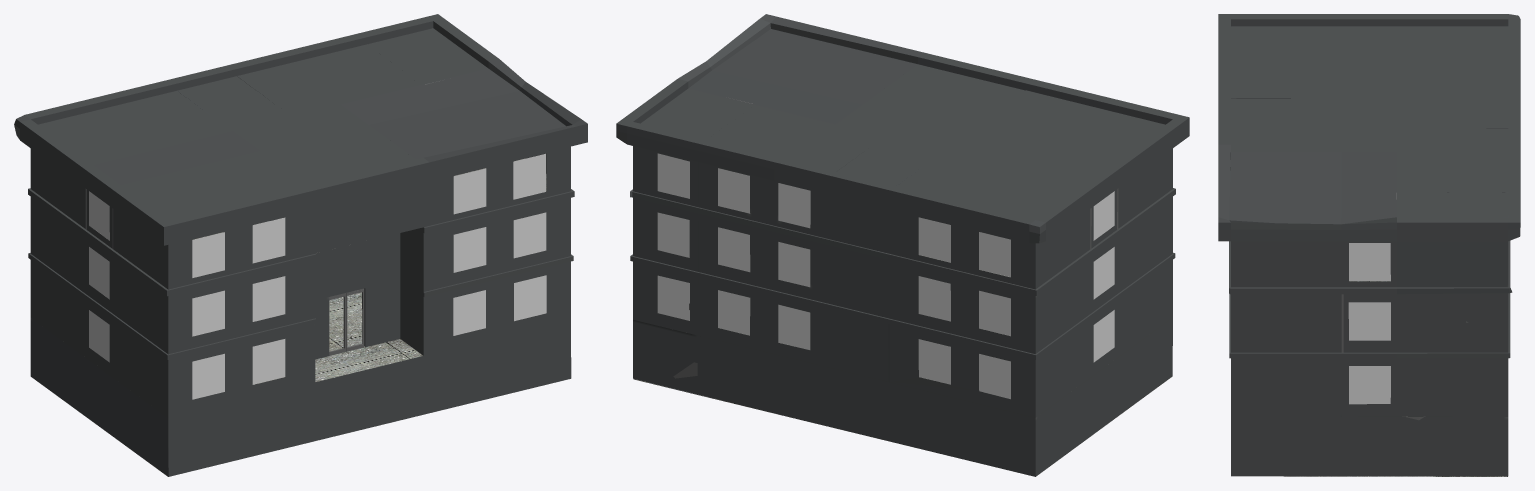
The model's file is HospitalTexturePaintBad2.fbx.
The picture shows the model from 3 angles, left to right: view 1: azimuth 30°, elevation 25°; view 2: azimuth 150°, elevation 25°; view 3: azimuth 270°, elevation 25°; orthographic projection.
Parts seen in each view (by area): view 1: Hospital, Windows, Floors, Level1Doors; view 2: Hospital, Windows; view 3: Hospital, Windows.
Part boxes in pixels (bbox=[...]): Hospital: bbox=[14, 14, 587, 476]; Windows: bbox=[89, 153, 546, 399]; Floors: bbox=[32, 158, 546, 476]; Level1Doors: bbox=[329, 288, 364, 355]; Hospital: bbox=[616, 14, 1189, 476]; Windows: bbox=[657, 153, 1114, 399]; Hospital: bbox=[1218, 14, 1520, 476]; Windows: bbox=[1348, 243, 1390, 404].
Size of the model in its own units: 10561 by 6132 by 6464.
Materials: 5 (2 with a texture image).
